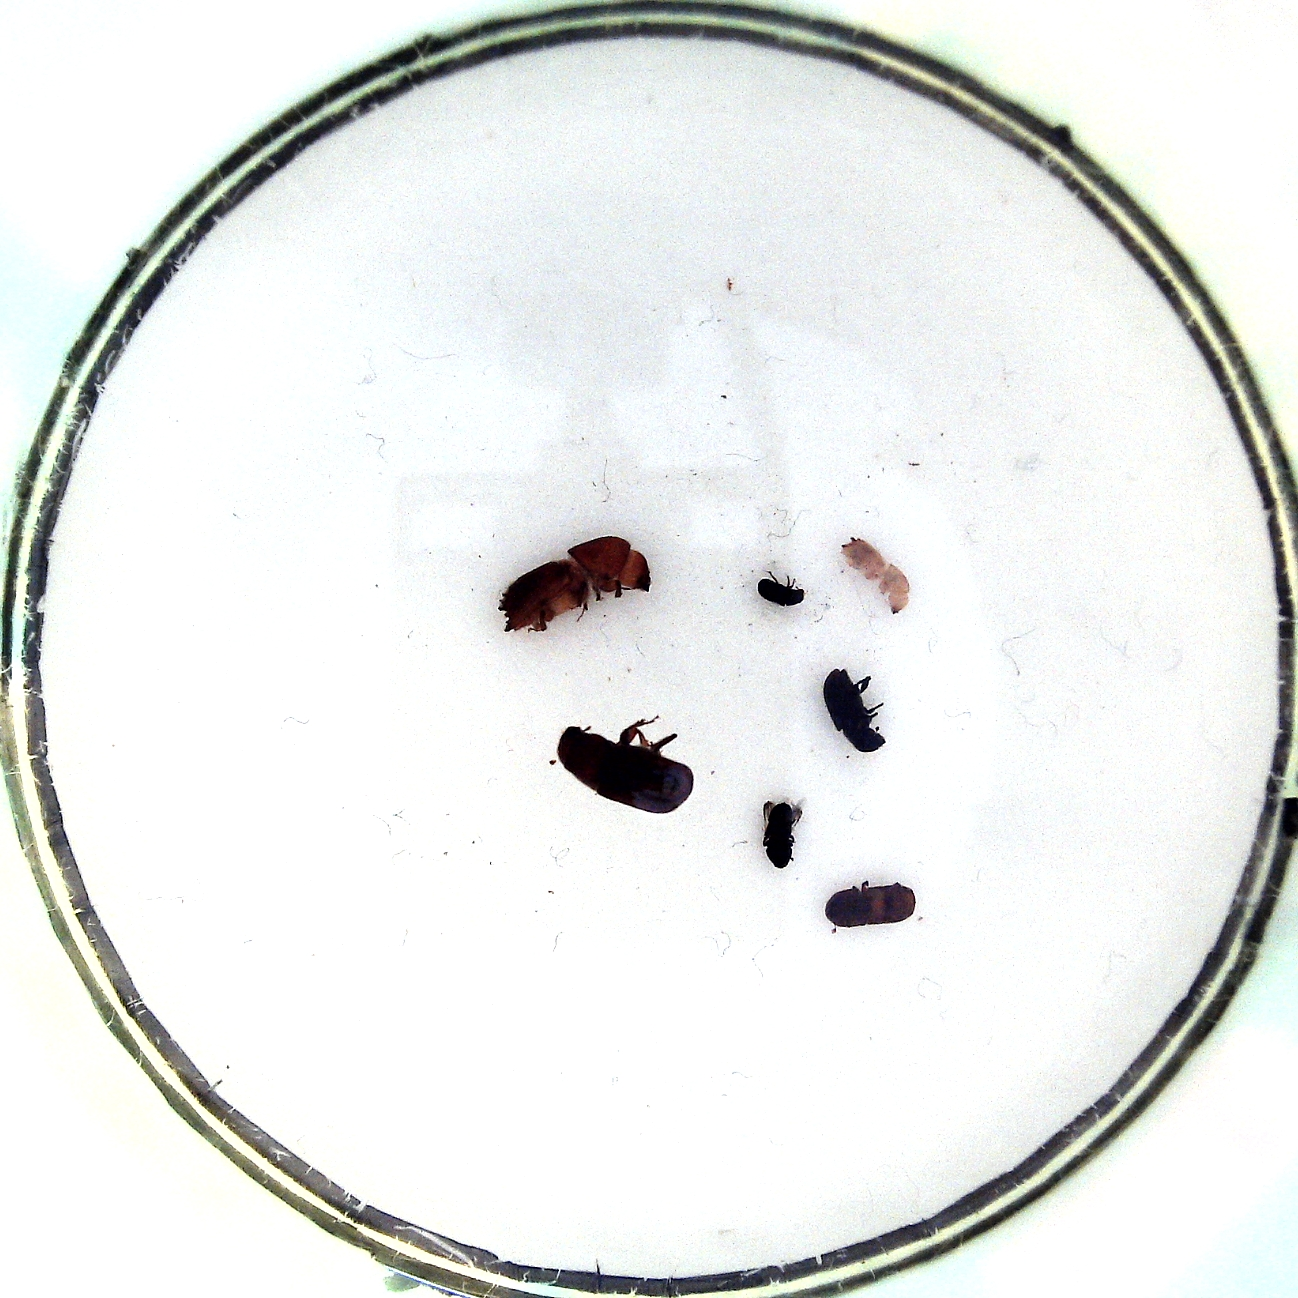Boerner: (491, 530, 657, 634)
Leconte: (553, 708, 699, 817)
Linnaeus: (821, 872, 922, 930)
acuminatus: (837, 530, 912, 616)
armandi: (817, 661, 893, 757)
coleoptera: (752, 794, 811, 872), (755, 571, 809, 609)
